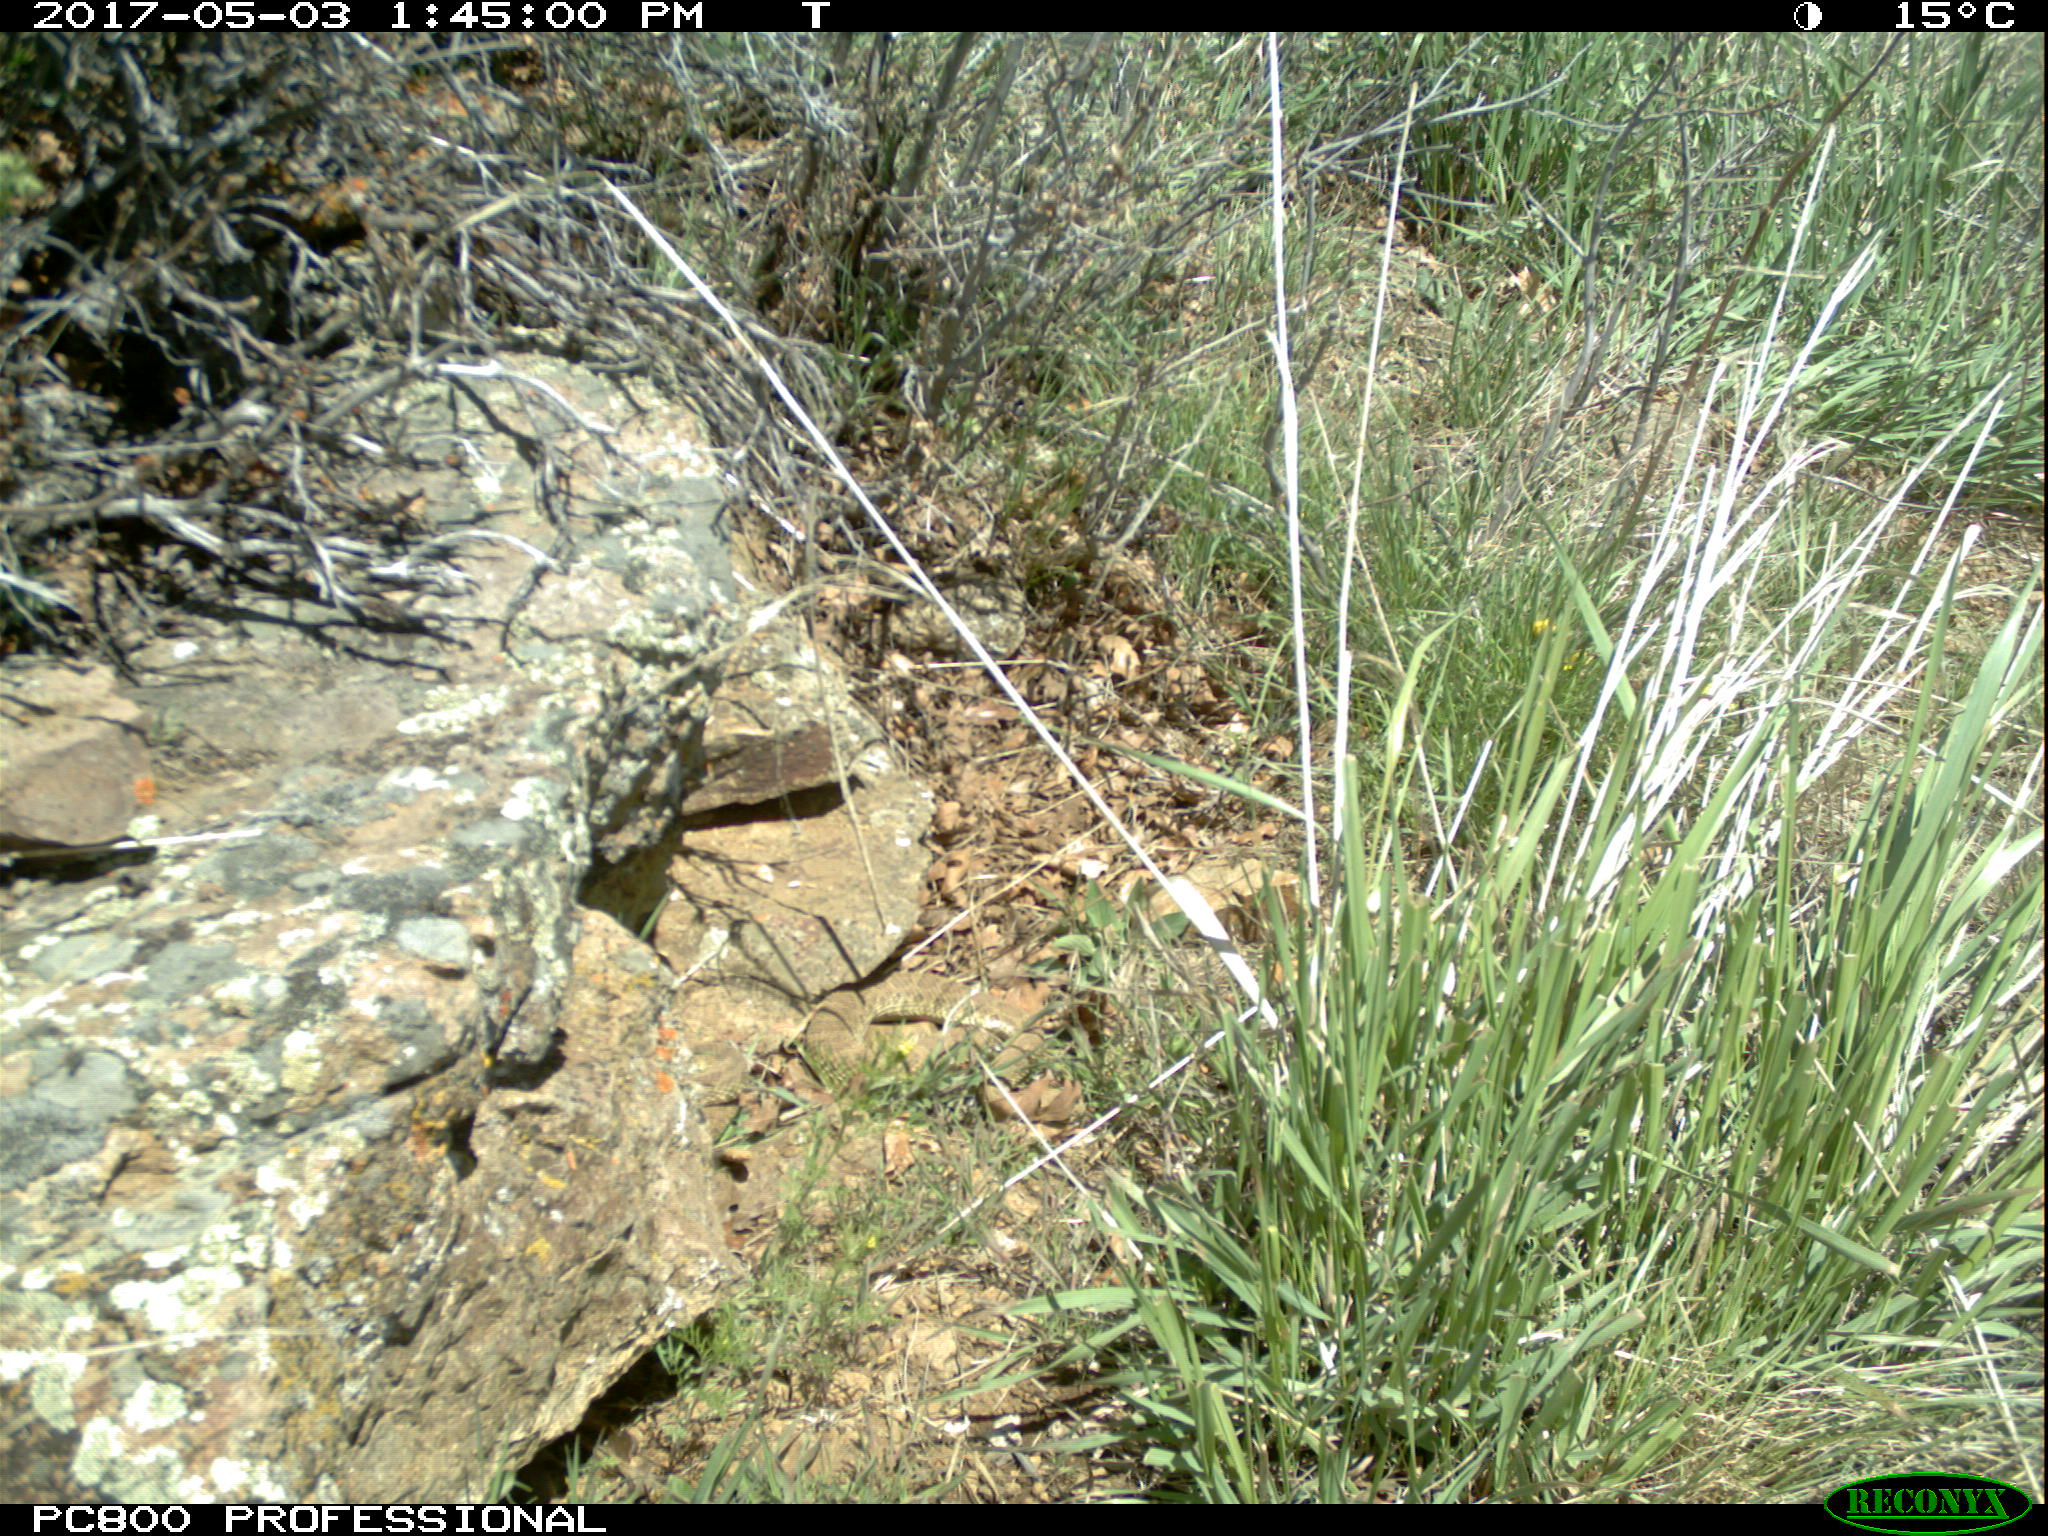snake: (805, 965, 1059, 1102)
